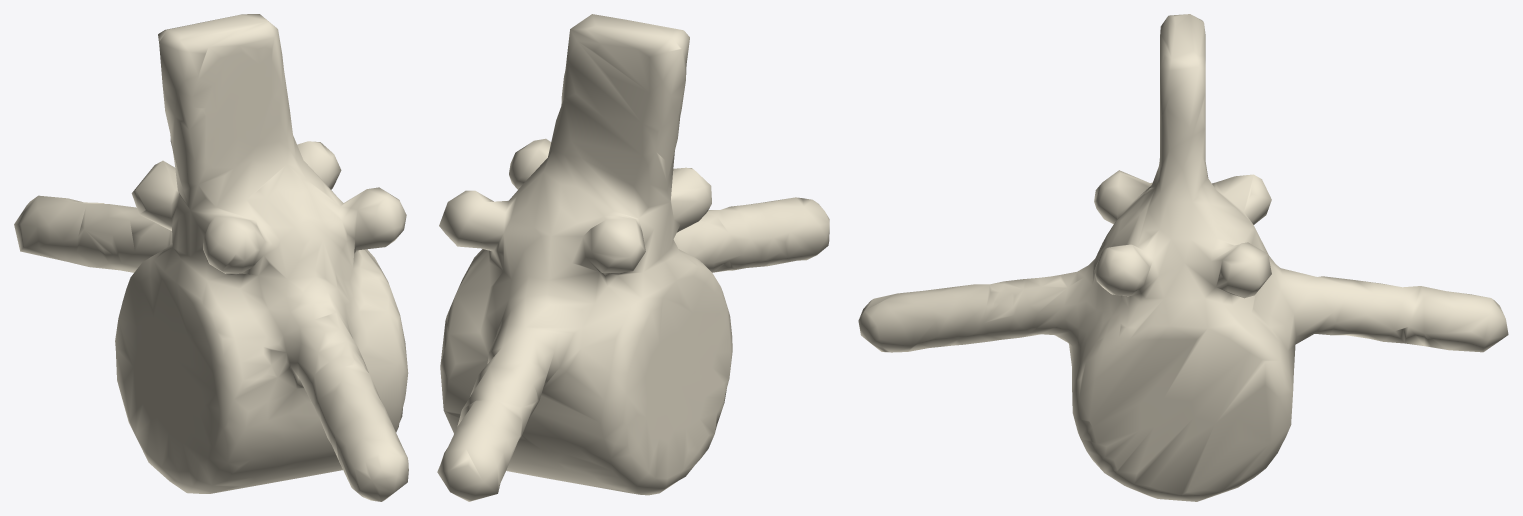
The model's file is lumbar_5.glb.
3 views of the same model, side by side, from view 1: azimuth 30°, elevation 25°; view 2: azimuth 150°, elevation 25°; view 3: azimuth 270°, elevation 25° (orthographic). The views are drawn at different scales.
Visible parts, largest first — view 1: geometry_0; view 2: geometry_0; view 3: geometry_0.
Part boxes in pixels (x1,y1,x2,y2): geometry_0: (14, 14, 408, 501); geometry_0: (437, 14, 829, 501); geometry_0: (858, 14, 1508, 501).
Size of the model in its own units: 0.1121 by 0.2412 by 0.3411.
